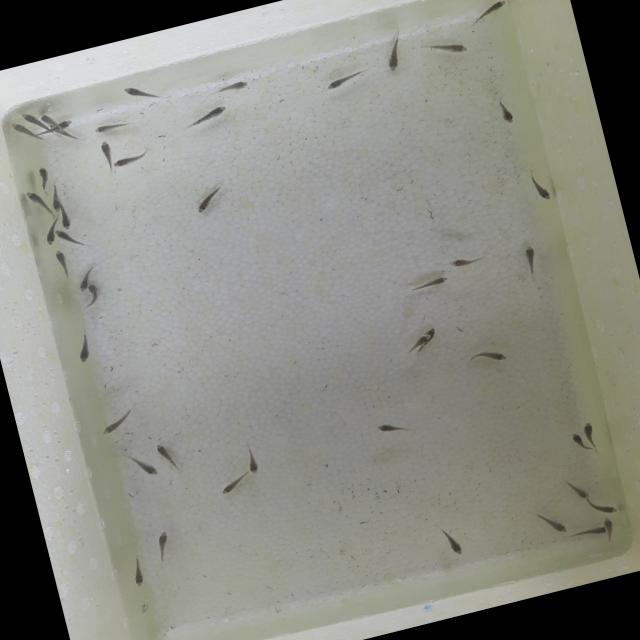fingerling: (313, 66, 371, 98), (183, 102, 238, 134), (379, 29, 414, 76), (118, 76, 168, 105), (470, 0, 518, 30), (202, 75, 252, 101), (186, 186, 224, 220), (534, 506, 569, 538), (425, 36, 473, 59), (436, 524, 463, 562), (92, 115, 136, 136), (126, 552, 152, 586), (524, 173, 554, 202), (372, 415, 408, 439), (153, 528, 176, 564), (111, 150, 152, 170), (70, 338, 97, 368), (8, 116, 38, 142), (518, 244, 542, 276), (132, 452, 160, 479), (97, 414, 130, 436), (22, 186, 47, 214), (444, 251, 479, 271), (242, 443, 264, 474), (584, 496, 615, 518), (563, 477, 590, 502), (94, 135, 118, 163), (475, 345, 508, 365), (418, 272, 451, 292), (579, 418, 601, 448), (496, 98, 518, 126), (216, 475, 244, 496), (574, 524, 606, 540), (54, 246, 72, 274), (18, 107, 43, 127), (153, 438, 173, 462), (37, 162, 53, 190), (568, 428, 586, 452), (85, 278, 102, 302), (48, 187, 64, 212), (38, 110, 60, 126), (76, 270, 92, 292), (52, 224, 70, 242), (42, 225, 58, 245), (411, 332, 432, 347), (58, 208, 72, 228), (55, 116, 74, 130), (602, 516, 613, 536)
